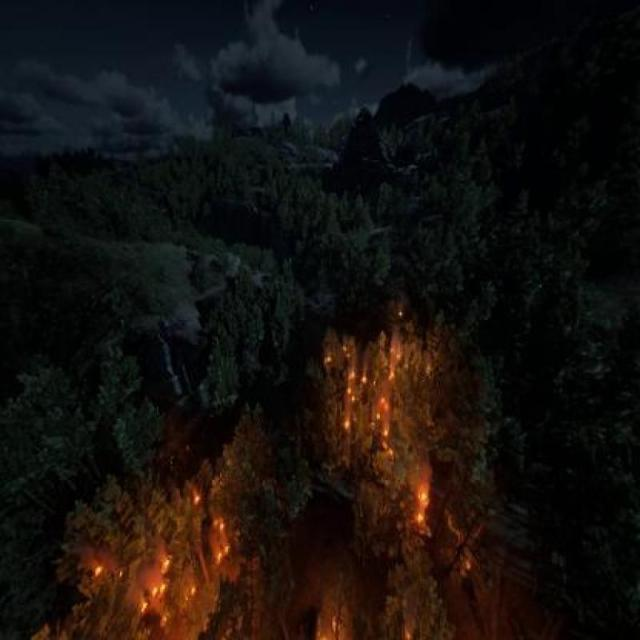Fire: (130, 478, 236, 640), (320, 303, 440, 442), (90, 538, 130, 594), (308, 603, 362, 640), (408, 466, 434, 539)
